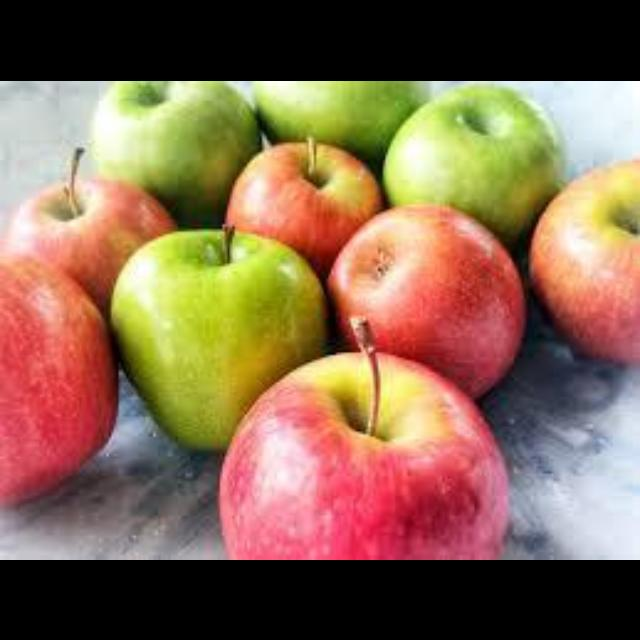apple: (220, 327, 507, 557), (111, 228, 326, 446), (329, 204, 524, 396), (383, 82, 561, 248), (0, 147, 175, 315), (0, 255, 116, 503), (89, 80, 259, 226), (529, 159, 638, 362), (225, 137, 381, 278), (252, 80, 427, 169)
